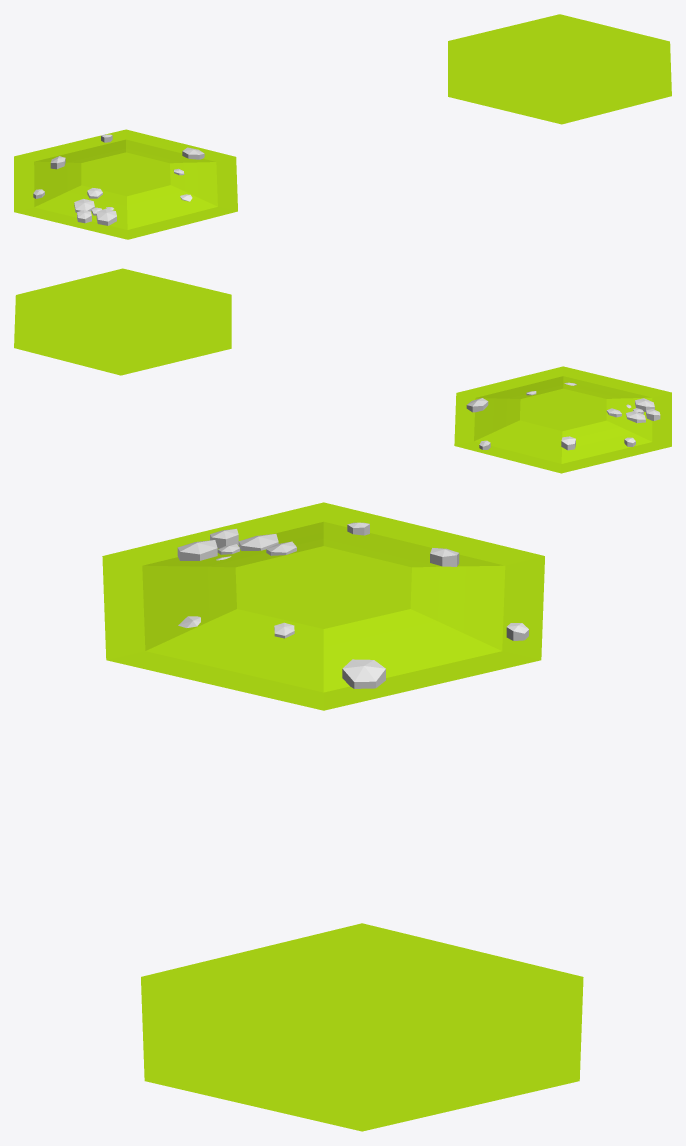
The model's file is Tatles1.fbx_Titel_Zemla_V2.fbx.
3 views of the same model, one above another, from view 1: azimuth 30°, elevation 25°; view 2: azimuth 150°, elevation 25°; view 3: azimuth 270°, elevation 25° (orthographic). The views are drawn at different scales.
Visible parts, largest first — view 1: 6 granik.004, 6 granik.005, Цилиндр; view 2: 6 granik.004, 6 granik.005, Цилиндр; view 3: 6 granik.004, 6 granik.005, Цилиндр.
Boxes of the visible parts, bbox=[...] form: 6 granik.004: bbox=[448, 14, 671, 124]; 6 granik.005: bbox=[14, 129, 237, 239]; Цилиндр: bbox=[33, 134, 204, 225]; 6 granik.004: bbox=[14, 268, 231, 375]; 6 granik.005: bbox=[454, 366, 671, 473]; Цилиндр: bbox=[466, 382, 660, 450]; 6 granik.004: bbox=[141, 923, 583, 1131]; 6 granik.005: bbox=[102, 502, 544, 710]; Цилиндр: bbox=[177, 522, 528, 688].
Size of the model in its own units: 54.57 by 1.28 by 17.58.
